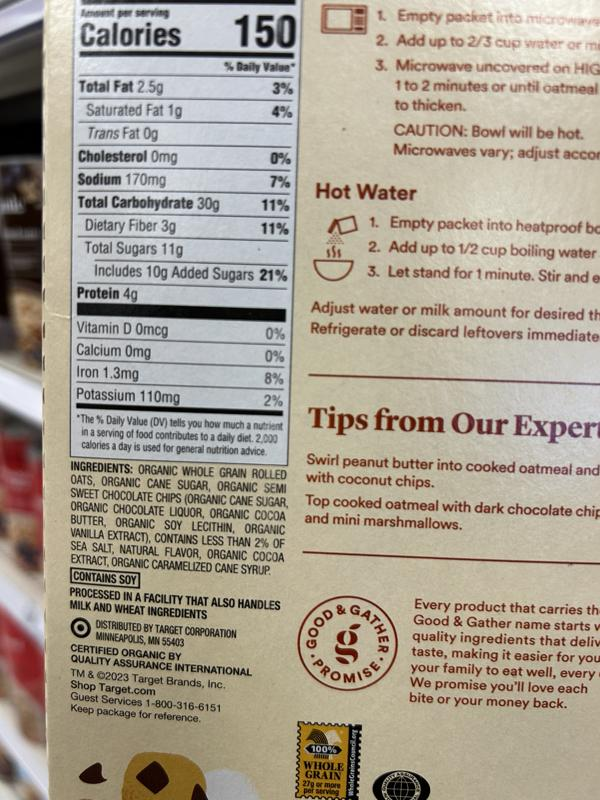ingredients: (67, 458, 290, 577)
